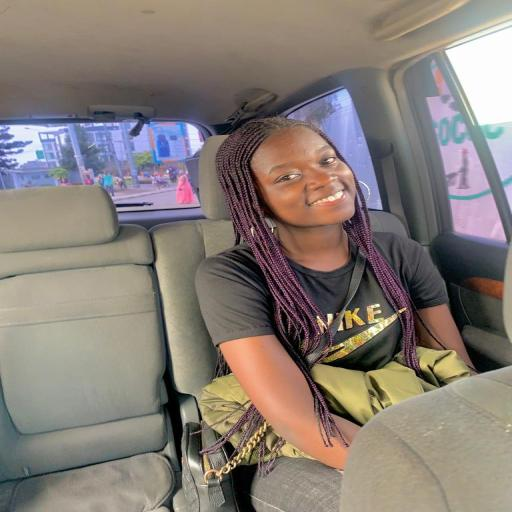LAURENE: (206, 108, 394, 239)
